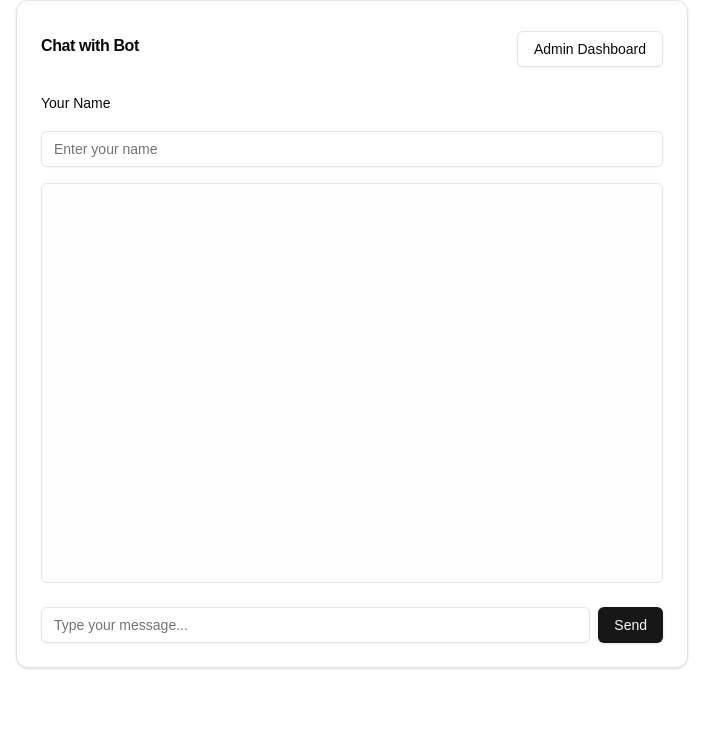
Test: ChatInterface with real API › should handle errors gracefully
This screenshot has width=705, height=748.
In the field labelled "Your Name": (352, 149) [41,131,663,167], type "Test User"
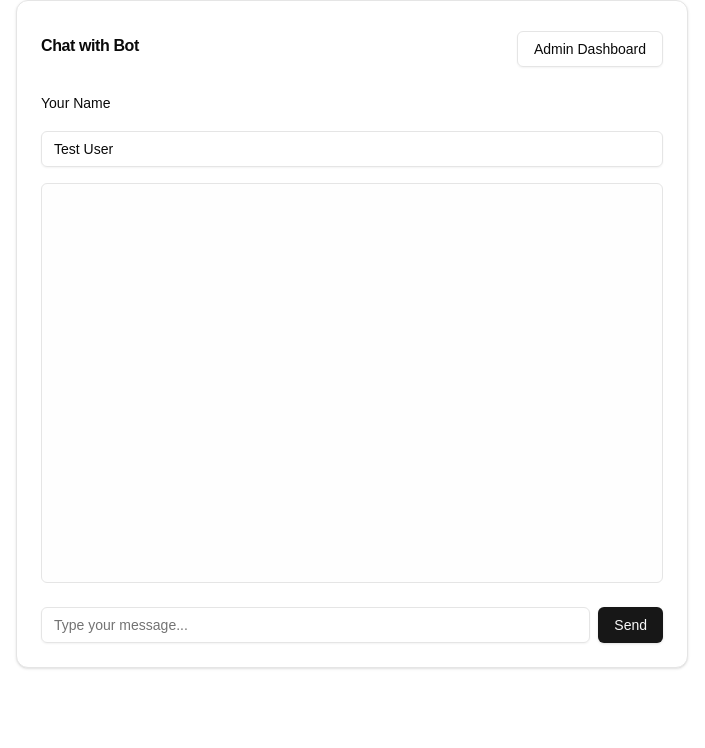
In the field with placeholder "Type your message...": (316, 625) [41,607,590,643], type "error"
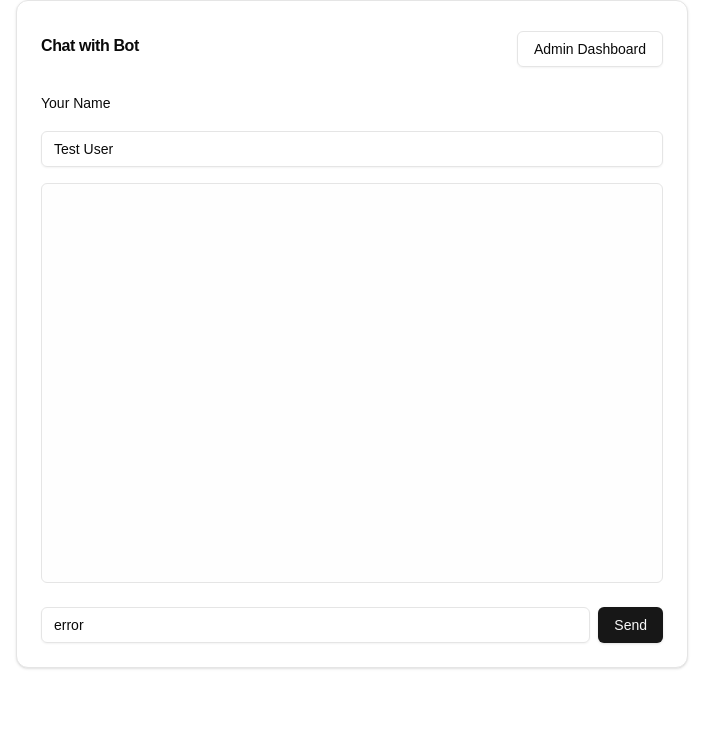
Click the button "Send": (631, 625) [598,607,663,643]
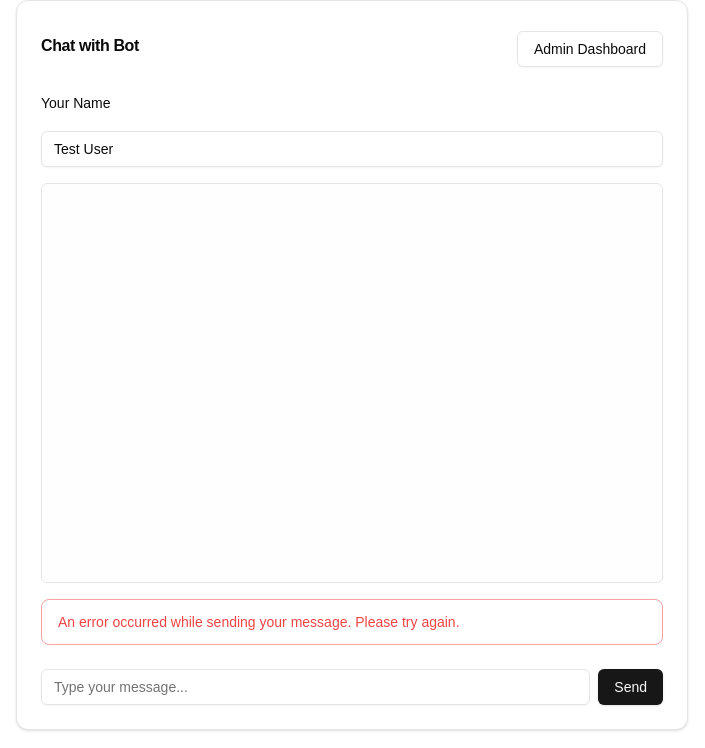
Expected: the button "Send" is enabled, [598,669,663,705]
Result: the text "An error occurred while sending your message" is shown at [58,614,460,630]
